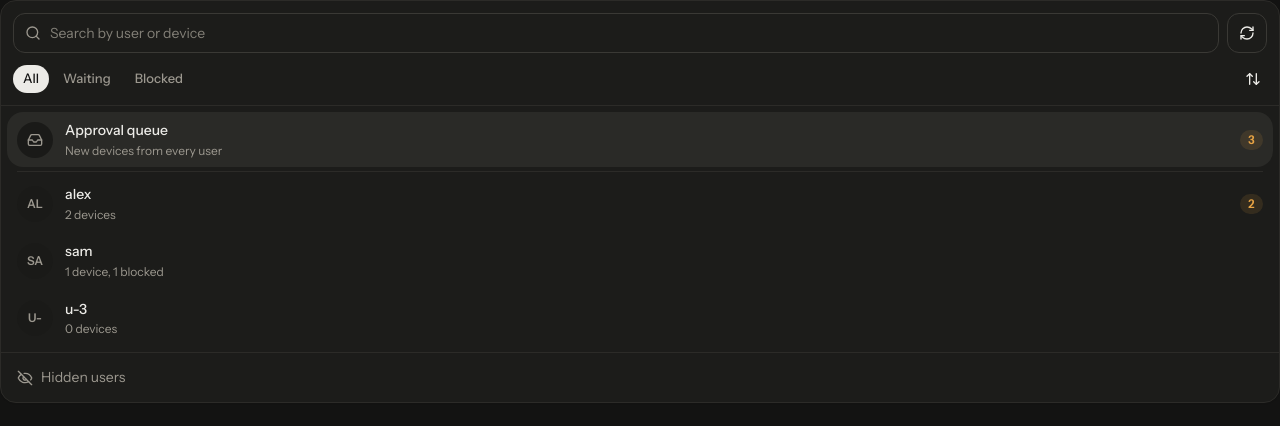
Test: UserList › checks the current sort and order
Click the button named "Sort users".
click(1253, 79)  # box x1=1239 y1=65 x2=1267 y2=93
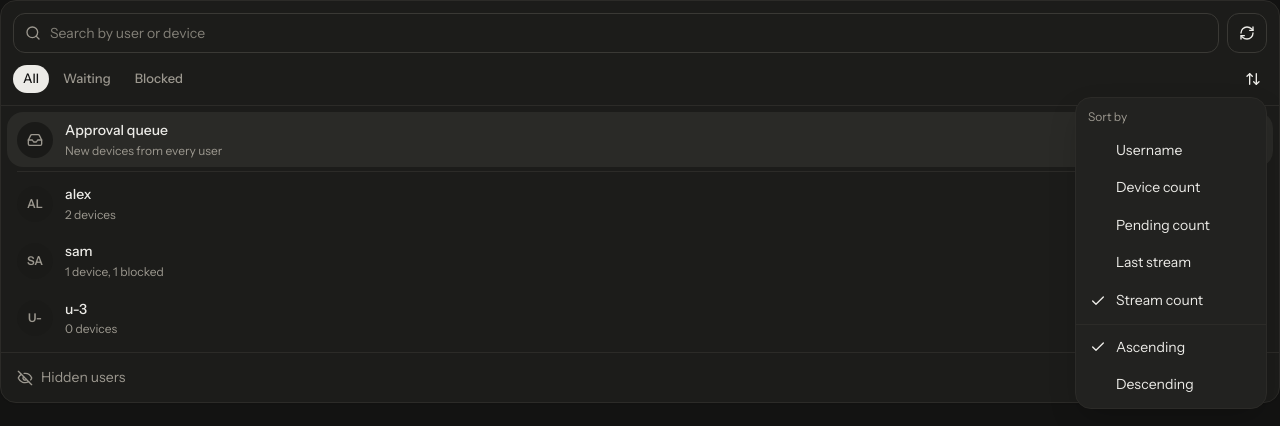
Expected: the menu item "Stream count" is shown, x1=1090 y1=291 x2=1203 y2=309
